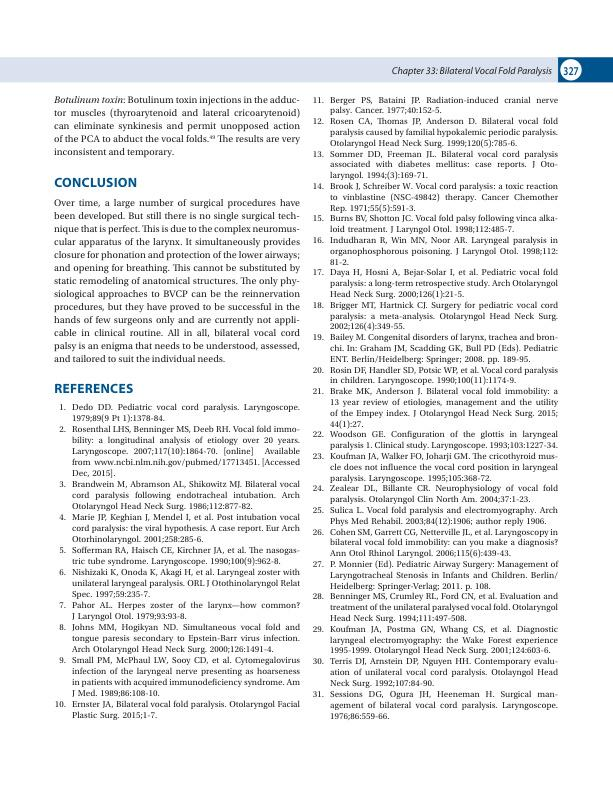header: (391, 65, 553, 77)
list: (312, 95, 560, 722), (54, 402, 301, 722)
section-heading: (53, 176, 138, 188), (54, 382, 133, 394)
sub-section-heading: (53, 94, 126, 105)
text: (53, 198, 301, 364), (52, 94, 302, 159)
